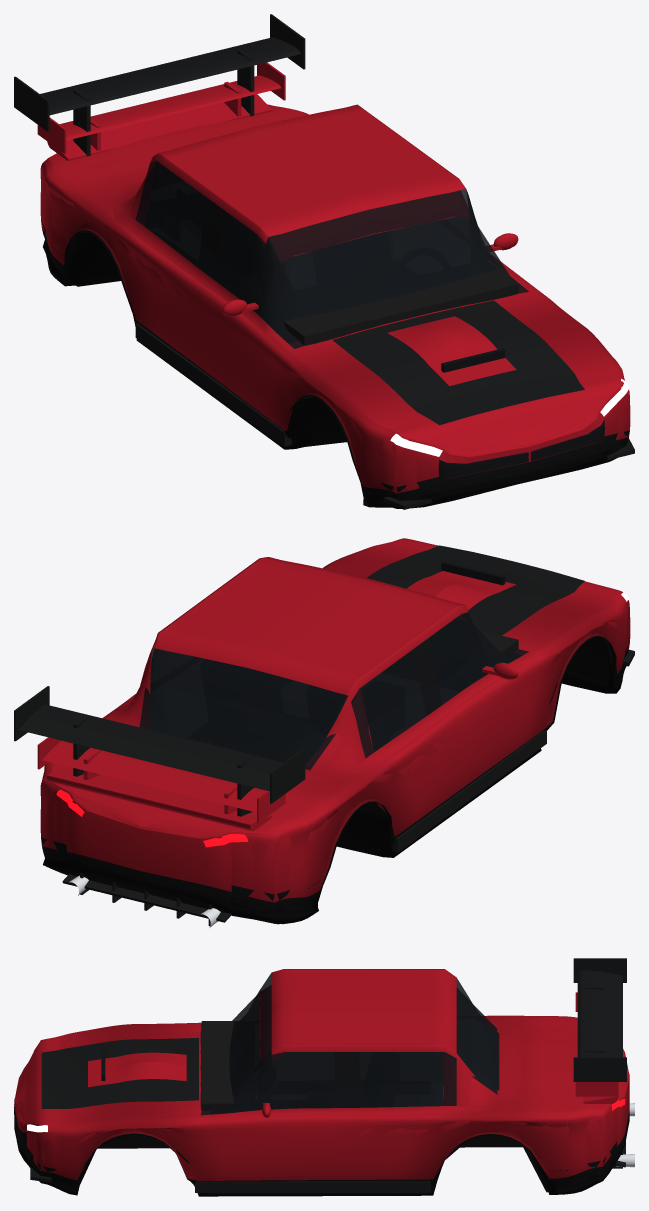
Rendered from sr_nissan_skyline_r34.glb.
The picture shows the model from 3 angles, top to bottom: view 1: azimuth 30°, elevation 25°; view 2: azimuth 150°, elevation 25°; view 3: azimuth 270°, elevation 25°; orthographic projection. The views are drawn at different scales.
Parts seen in each view (by area): view 1: body (×2), hood_3, spoiler_3, interior, spoiler_2, hood_1, spoiler_1, bumper_1, grille, mirrors, hood_1_intake; view 2: body (×2), spoiler_3, hood_3, spoiler_2, bumper_1, spoiler_1, hood_1, hood_1_intake; view 3: body (×2), hood_3, spoiler_3, bumper_1, interior, hood_1, spoiler_2.
Boxes of the visible parts, x1=… form: body (×2): x1=40, y1=104, x2=630, y2=508; hood_3: x1=332, y1=300, x2=584, y2=425; spoiler_3: x1=14, y1=14, x2=305, y2=156; interior: x1=284, y1=269, x2=518, y2=345; spoiler_2: x1=37, y1=62, x2=285, y2=153; hood_1: x1=387, y1=316, x2=516, y2=385; spoiler_1: x1=47, y1=94, x2=272, y2=160; bumper_1: x1=135, y1=323, x2=634, y2=509; grille: x1=438, y1=419, x2=604, y2=481; mirrors: x1=222, y1=233, x2=518, y2=316; hood_1_intake: x1=441, y1=348, x2=505, y2=372; body (×2): x1=40, y1=538, x2=630, y2=924; spoiler_3: x1=14, y1=686, x2=305, y2=816; hood_3: x1=367, y1=545, x2=584, y2=635; spoiler_2: x1=37, y1=737, x2=285, y2=822; bumper_1: x1=62, y1=649, x2=634, y2=926; spoiler_1: x1=46, y1=766, x2=272, y2=831; hood_1: x1=406, y1=571, x2=516, y2=610; hood_1_intake: x1=441, y1=561, x2=505, y2=585; body (×2): x1=14, y1=969, x2=629, y2=1196; hood_3: x1=41, y1=1038, x2=198, y2=1108; spoiler_3: x1=573, y1=958, x2=626, y2=1081; bumper_1: x1=30, y1=1141, x2=625, y2=1192; interior: x1=201, y1=1021, x2=233, y2=1110; hood_1: x1=88, y1=1052, x2=186, y2=1087; spoiler_2: x1=575, y1=992, x2=618, y2=1096.
Size of the model in its own units: 2.02 by 1.19 by 4.64.
